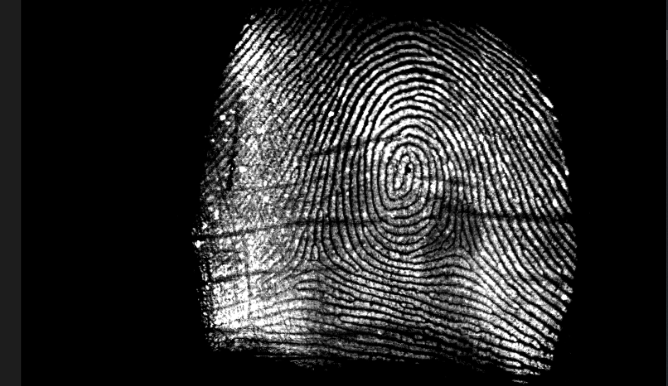deltas: (292, 233, 338, 278), (436, 224, 480, 268)
nucleo: (382, 156, 427, 195)
